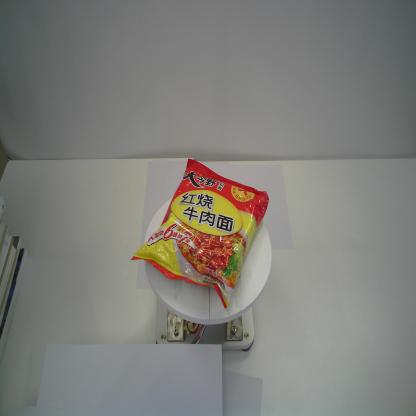Instant Noodles: (129, 156, 271, 311)
